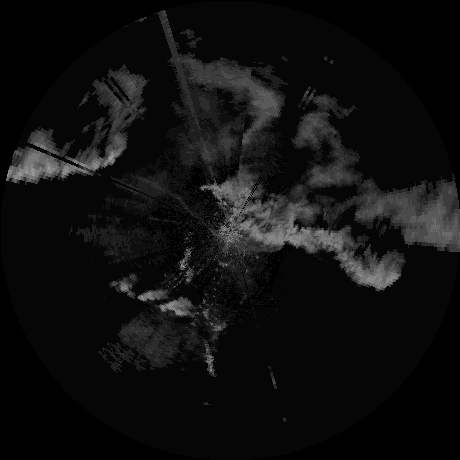frontgust: (128, 173, 221, 233)
